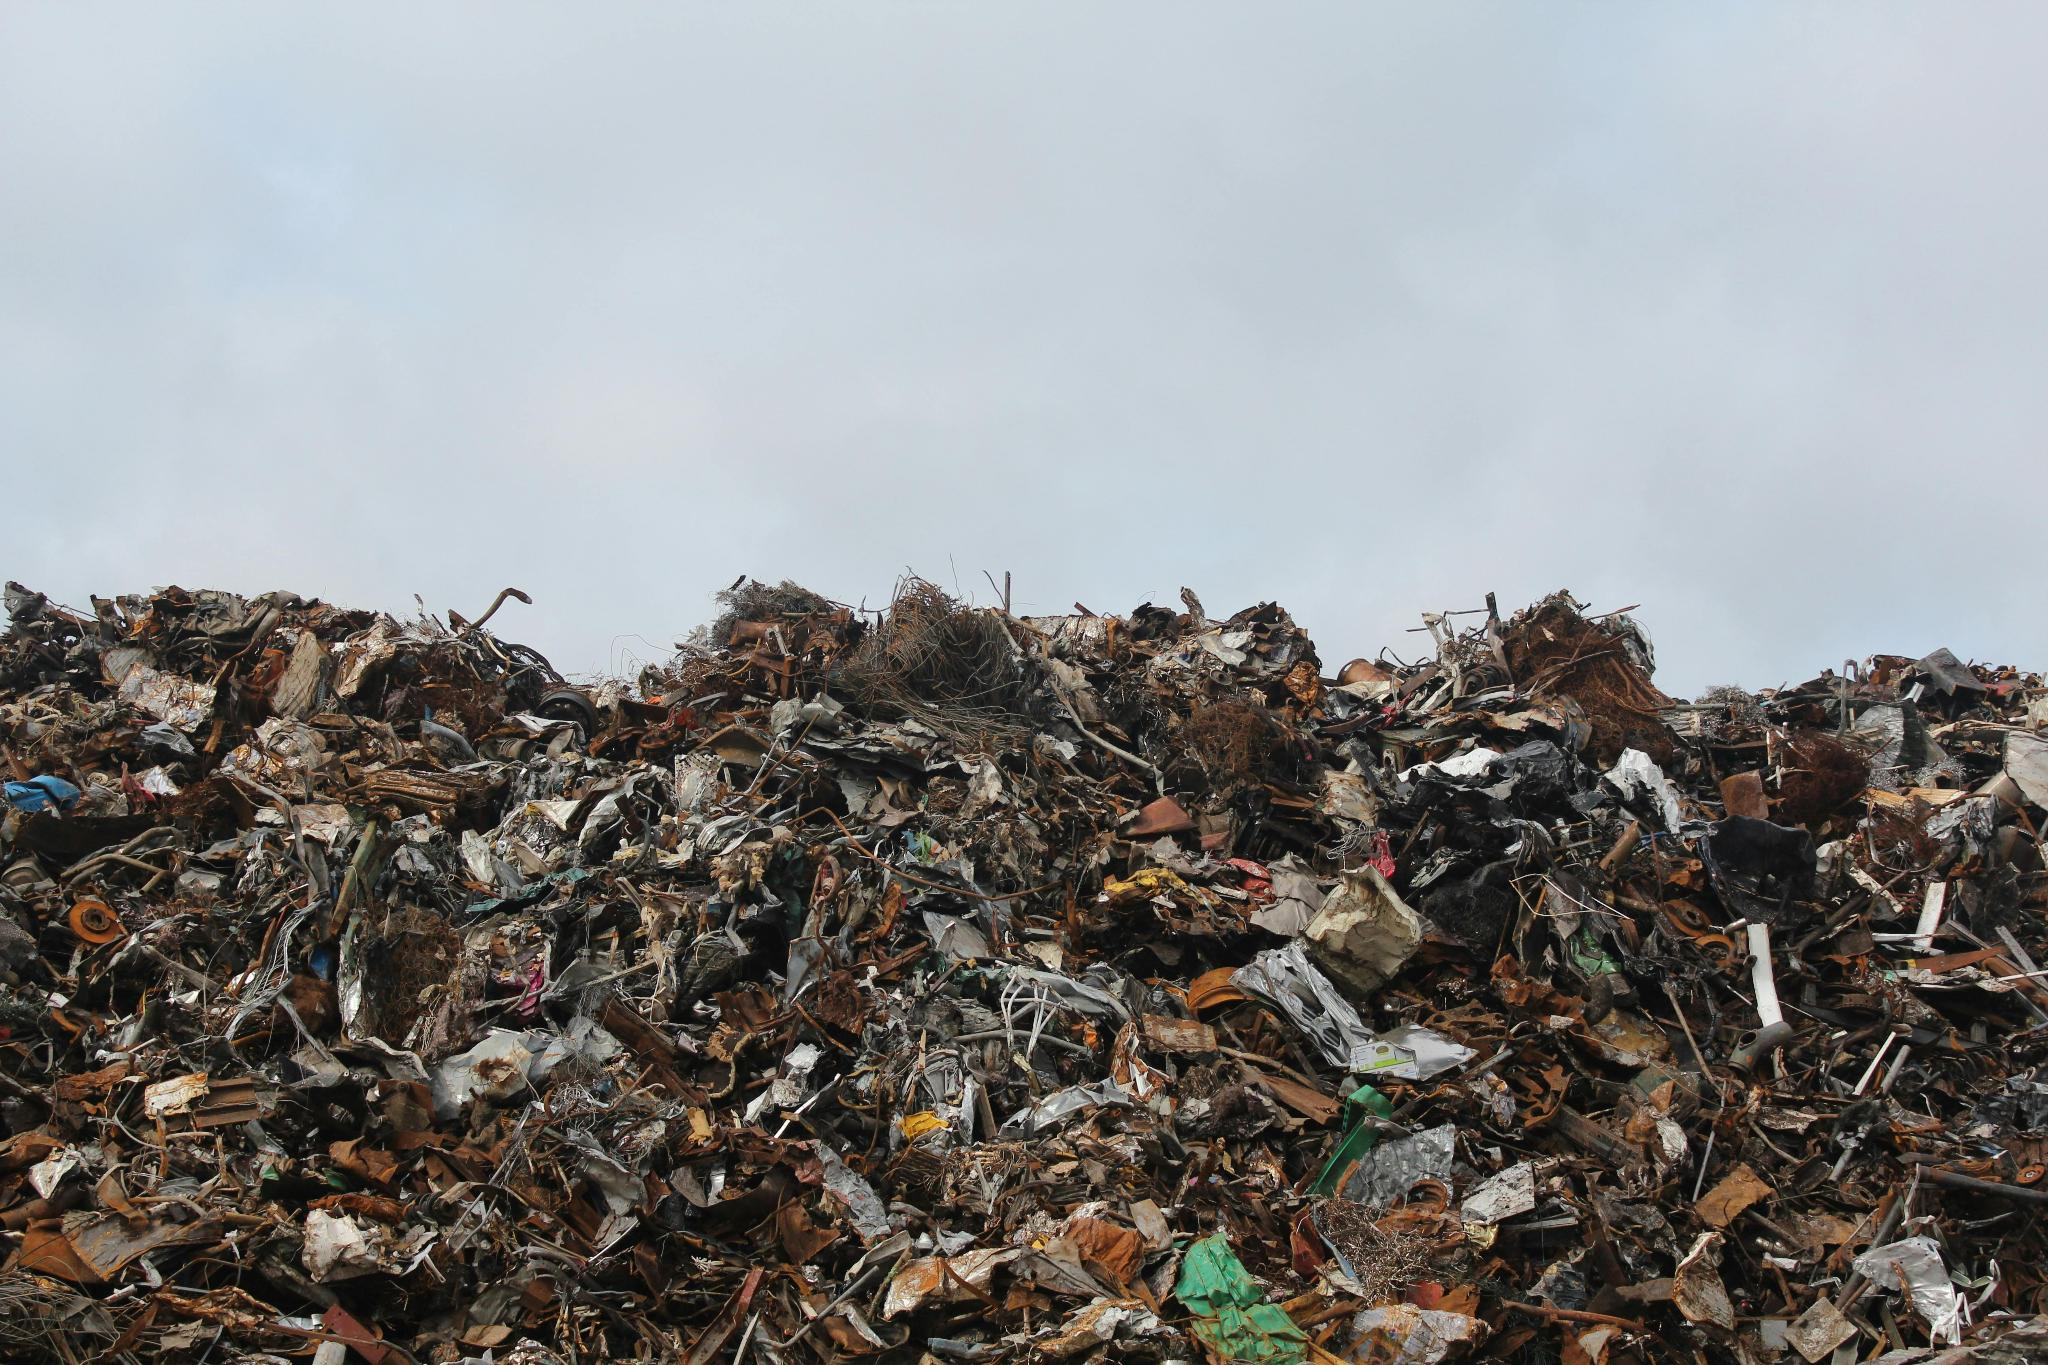Trash: (0, 573, 2046, 1359)
